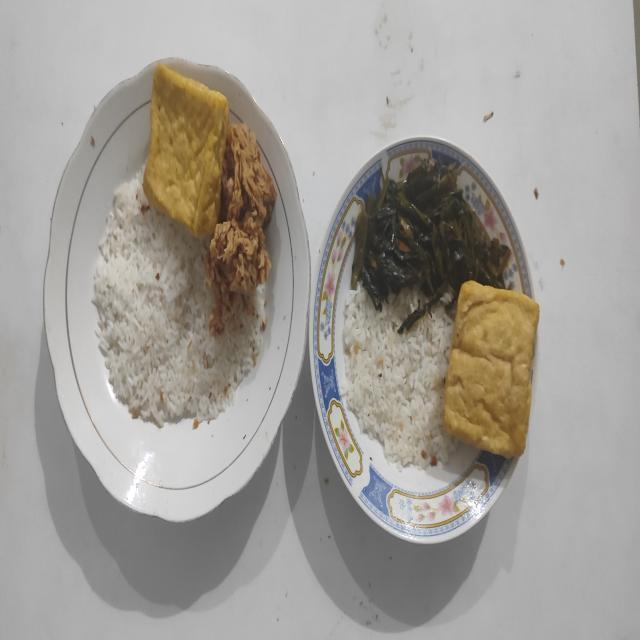nasi_putih: (92, 175, 267, 428), (340, 286, 458, 469)
tahu_goreng: (444, 280, 539, 458), (143, 64, 230, 237)
tumis_kangkung: (352, 158, 511, 334)
